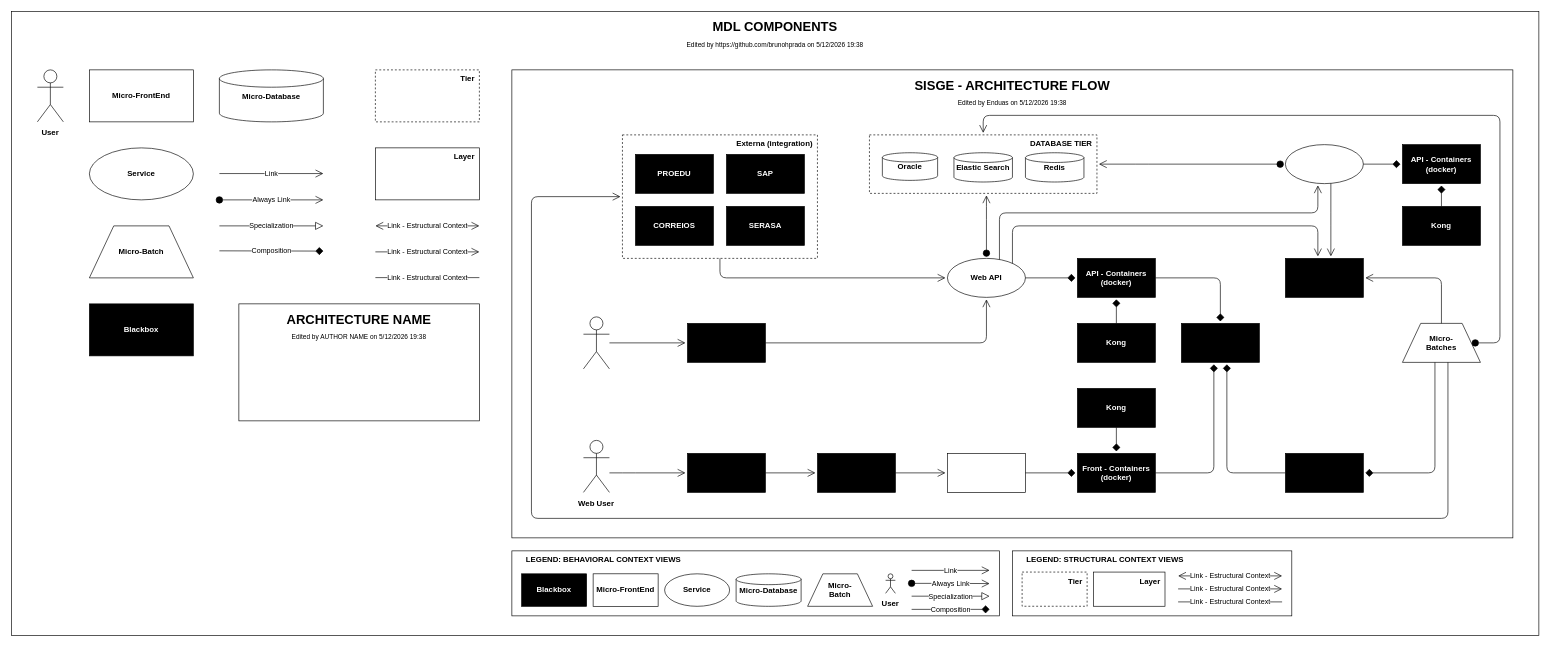
The diagram is 1550 pixels wide and 647 high, and some of its shapes have lost their labels. The shapes that lost their labels are listed below. From the top down, each one's centre as x and y in pixels, then its label:
the point at 1324,164: Microservices
the point at 1324,277: Rabbit MQ
the point at 596,342: Mobile User
the point at 726,342: iOS/Android
the point at 1220,342: Kubernetes (cluster)
the point at 726,472: Browser
the point at 856,472: HTTPSTER
the point at 986,472: PWA Pages
the point at 1324,472: MB - Containers (docker)
